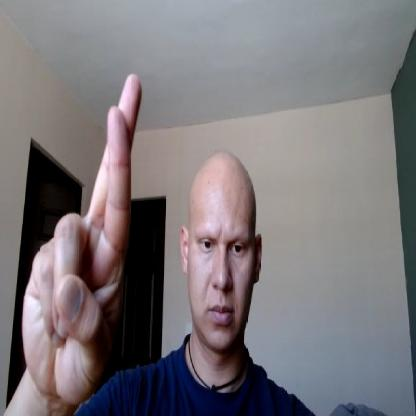R: (21, 72, 144, 415)
